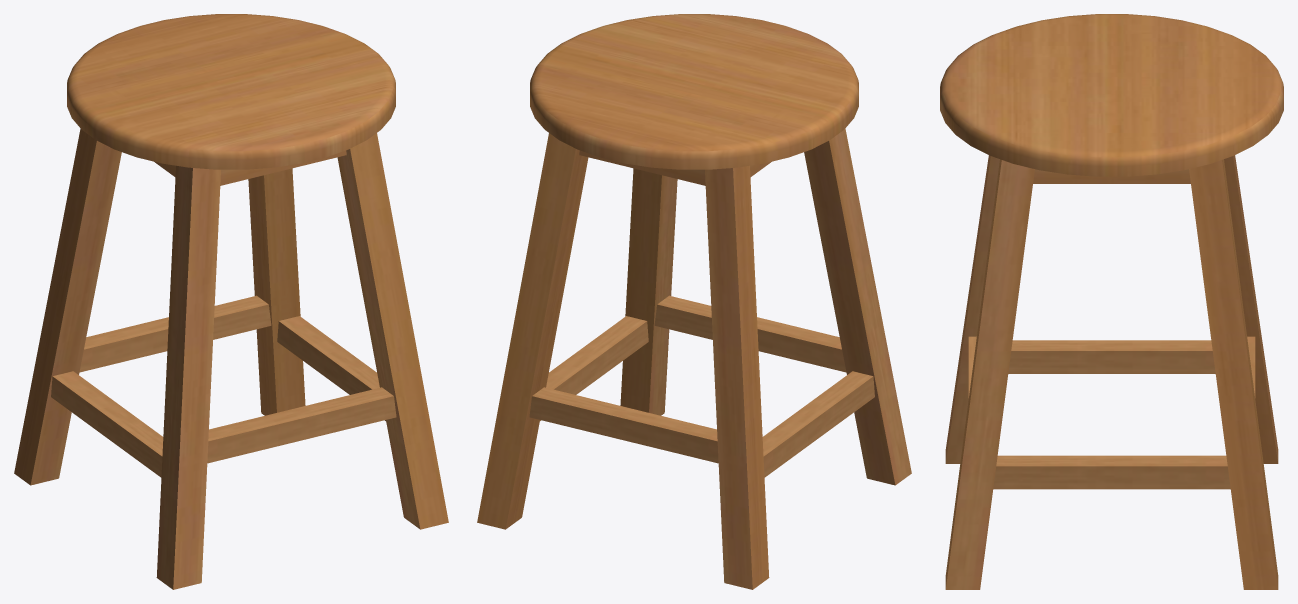
File: mw-stool_naturalpine.fbx
3 views of the same model, side by side, from view 1: azimuth 30°, elevation 25°; view 2: azimuth 150°, elevation 25°; view 3: azimuth 270°, elevation 25° (orthographic). The views are drawn at different scales.
Visible parts, largest first — view 1: mw-stool; view 2: mw-stool; view 3: mw-stool.
Boxes of the visible parts, bbox=[...] form: mw-stool: bbox=[14, 14, 448, 589]; mw-stool: bbox=[477, 14, 911, 589]; mw-stool: bbox=[940, 14, 1283, 589].
Size of the model in its own units: 30 by 42 by 30.
Materials: 2 (2 with a texture image).
